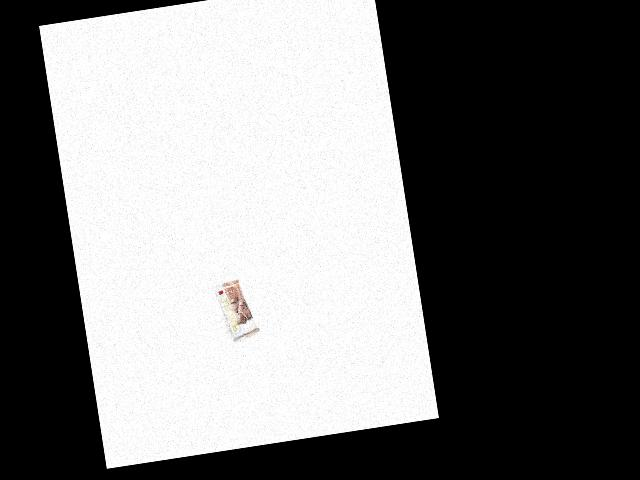chocolate: (209, 276, 264, 340)
